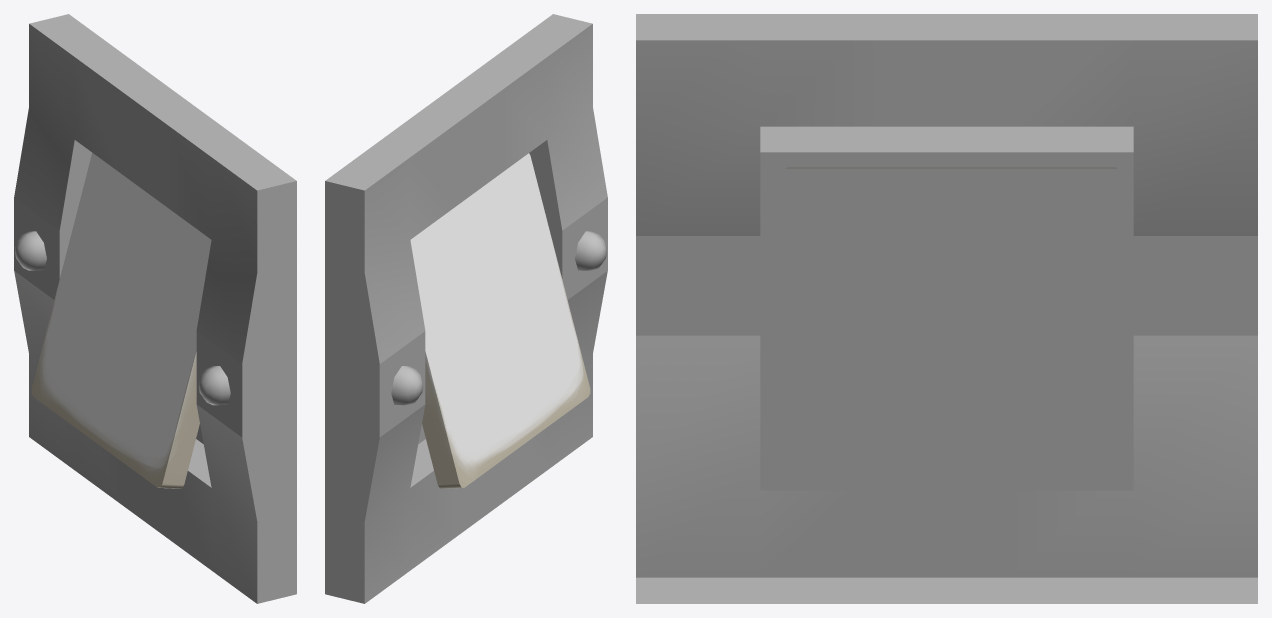
File: interrupteur.fbx
3 views of the same model, side by side, from view 1: azimuth 30°, elevation 25°; view 2: azimuth 150°, elevation 25°; view 3: azimuth 270°, elevation 25° (orthographic). The views are drawn at different scales.
Parts seen in each view (by area): view 1: interrupteurBase, InterrupteurSwitch; view 2: interrupteurBase, InterrupteurSwitch; view 3: interrupteurBase.
Part boxes in pixels (<box>): interrupteurBase: <box>14,14,296,603</box>; InterrupteurSwitch: <box>31,153,211,488</box>; interrupteurBase: <box>325,14,607,603</box>; InterrupteurSwitch: <box>410,153,590,488</box>; interrupteurBase: <box>636,14,1257,603</box>.
Bounding box in the file's own units: 1.02 × 4.59 × 4.59.
